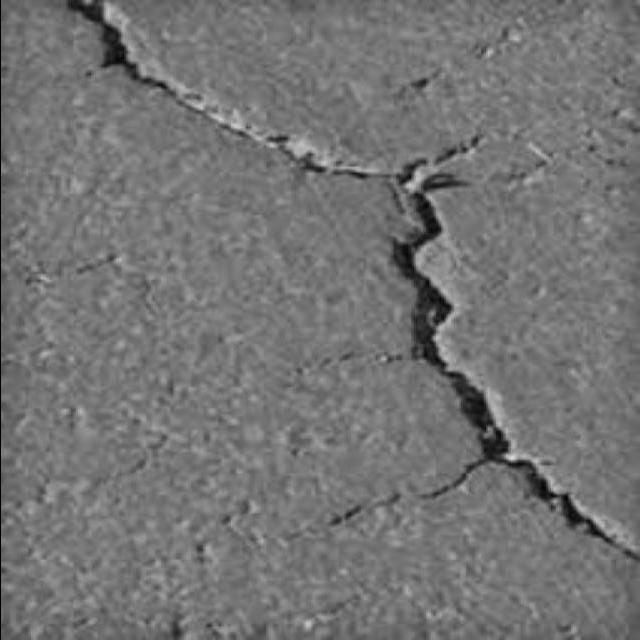SurfaceCrack: (325, 2, 638, 600)
